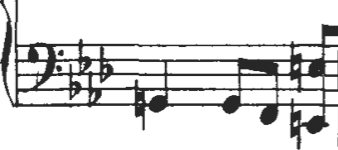bass_clef: (22, 34, 66, 96)
flat: (75, 35, 94, 79), (86, 68, 104, 113), (97, 39, 113, 86), (66, 63, 83, 103)
